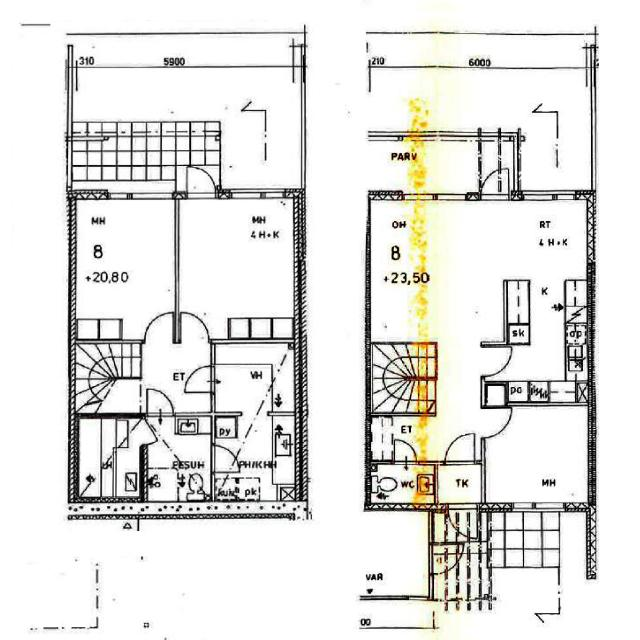door: (448, 502, 478, 540), (187, 161, 216, 200), (480, 161, 509, 200), (428, 544, 462, 573), (445, 432, 475, 464), (481, 408, 514, 437), (145, 310, 173, 343), (181, 310, 208, 342), (147, 386, 173, 417), (139, 419, 172, 443), (211, 445, 241, 471), (394, 440, 416, 464)
